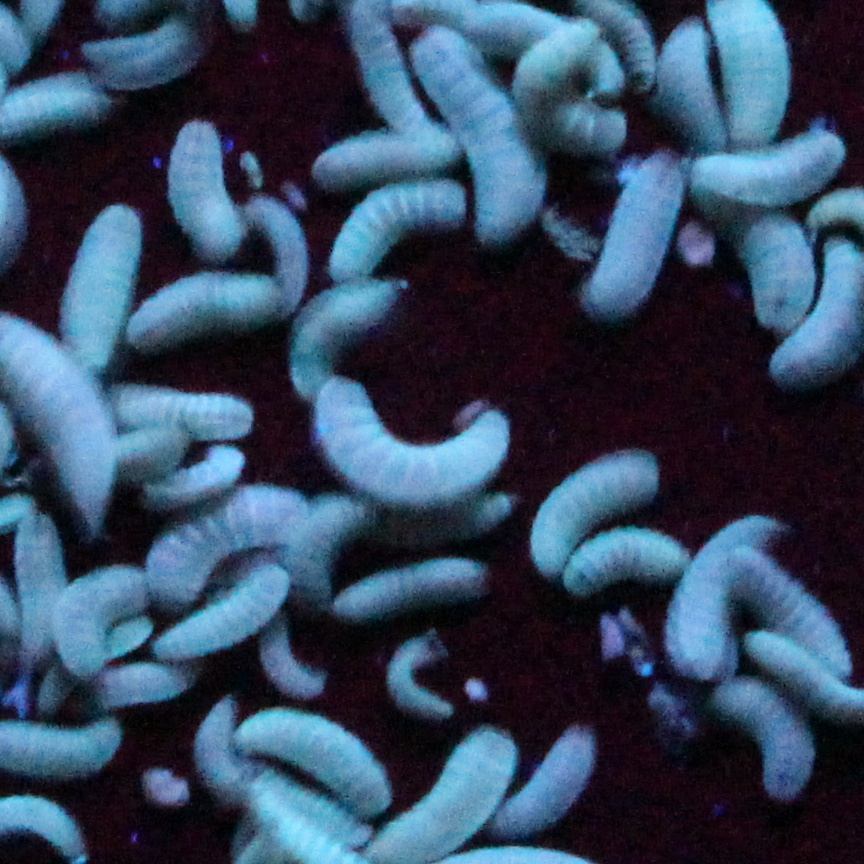larve: (397, 12, 562, 245), (417, 29, 548, 263), (308, 370, 513, 514), (521, 432, 676, 585), (658, 498, 782, 685), (571, 147, 693, 328), (240, 699, 403, 826), (132, 113, 252, 284), (318, 172, 479, 278), (53, 193, 144, 378), (149, 555, 295, 663), (715, 672, 825, 808), (679, 119, 846, 206), (100, 363, 258, 444), (299, 116, 469, 191), (331, 552, 508, 624), (48, 563, 153, 680), (499, 717, 589, 845), (190, 701, 285, 812), (377, 632, 471, 735), (17, 523, 78, 674), (549, 529, 697, 585)
